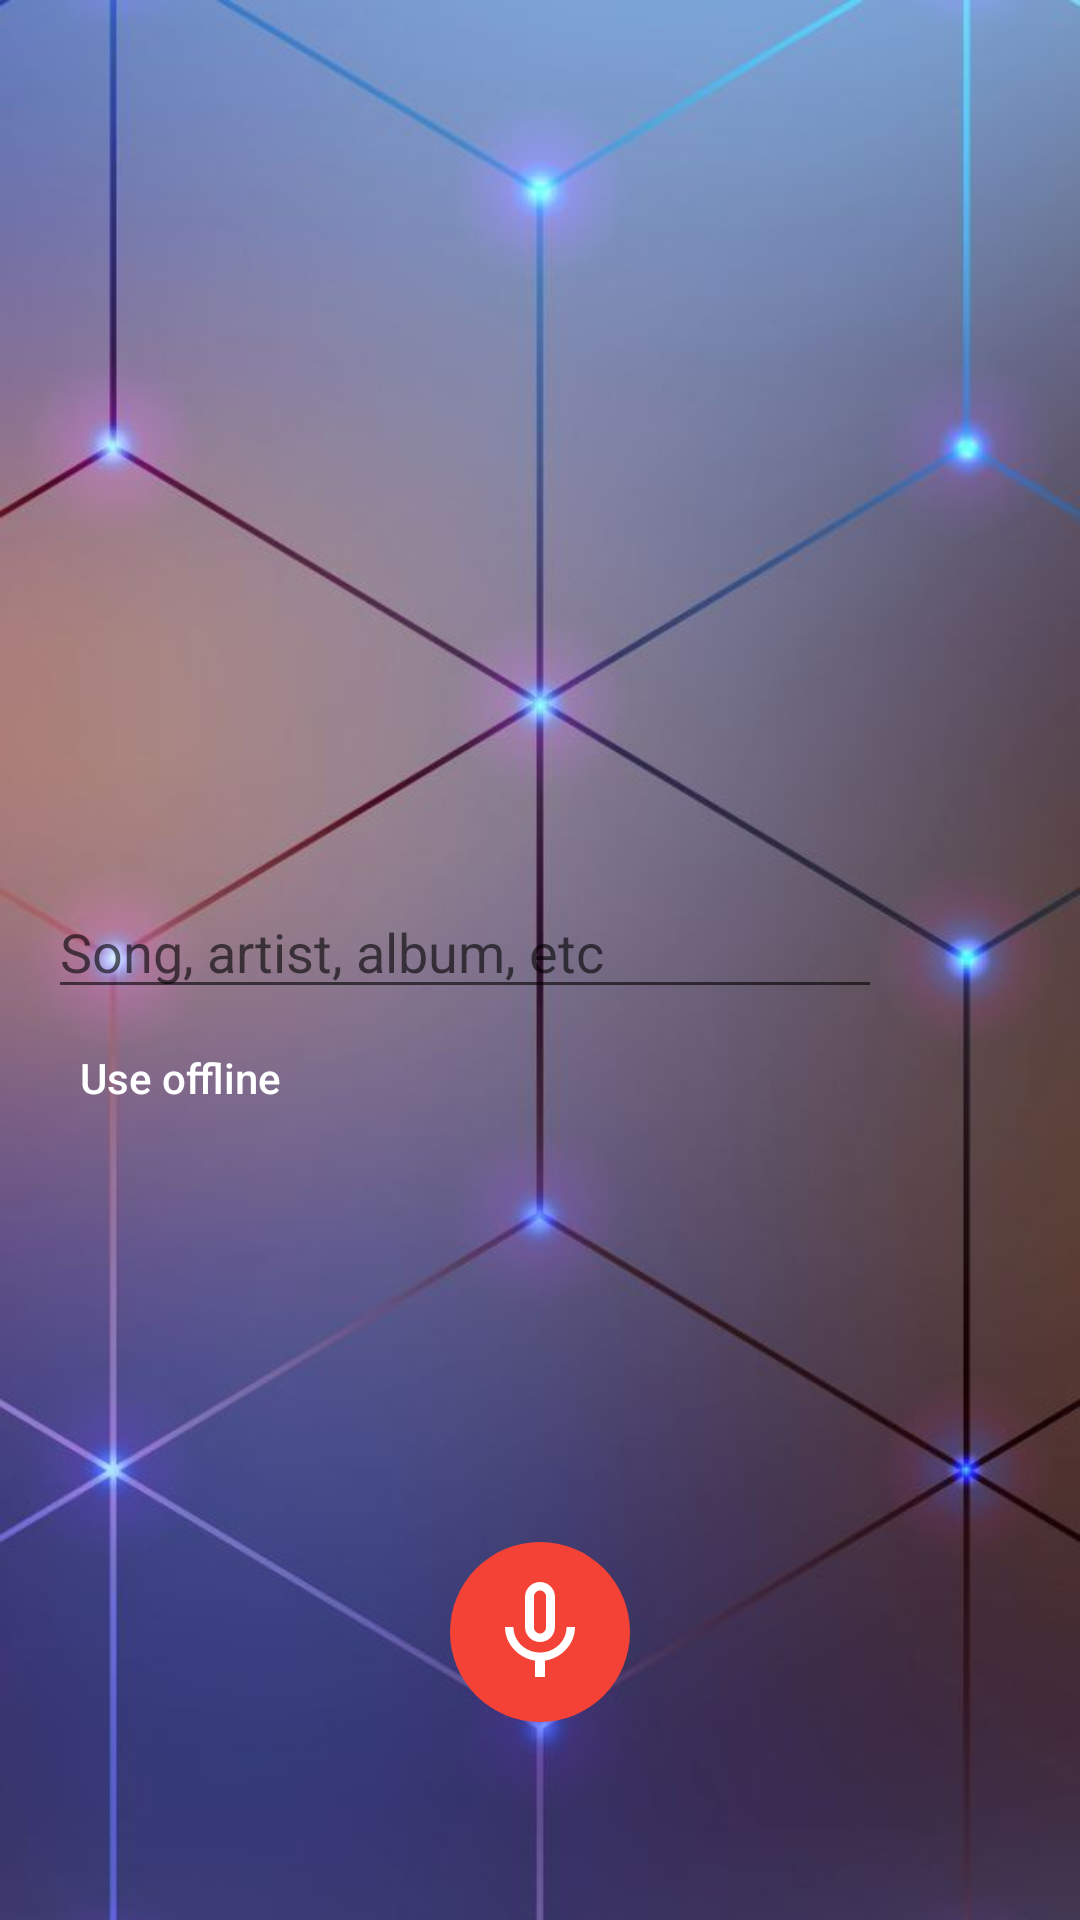

Where to tap for icons on this 1080x1920 app screen, as (x,y):
mic: (540,1632)
